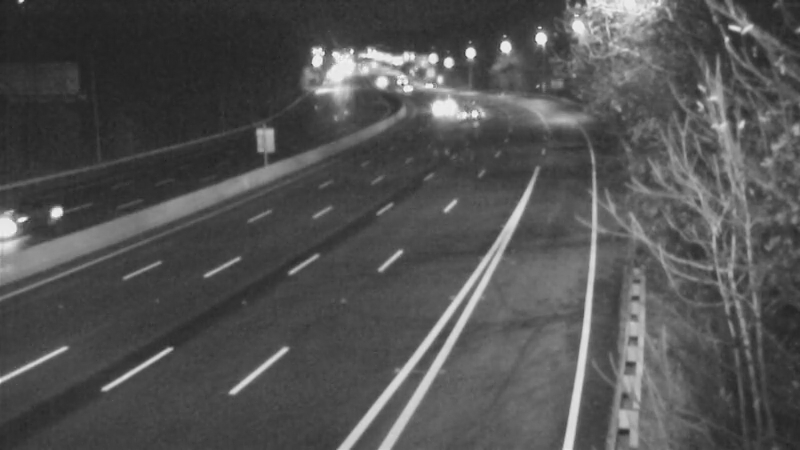vehicle: (1, 180, 74, 260), (397, 59, 447, 109), (372, 54, 422, 104), (353, 54, 403, 104), (381, 64, 431, 114), (411, 84, 461, 134), (442, 91, 492, 141)
